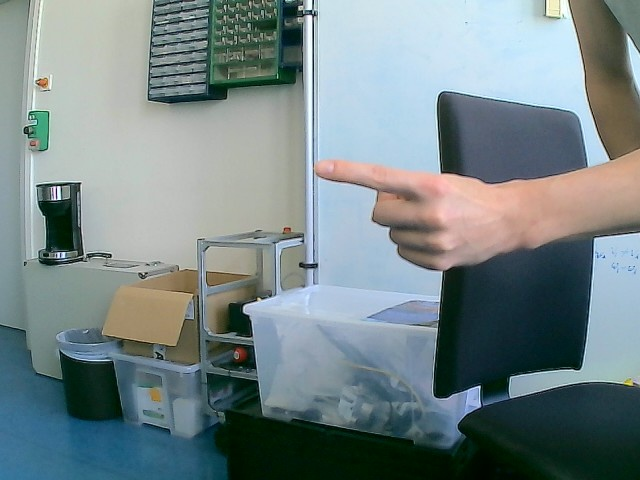right: (312, 158, 524, 272)
